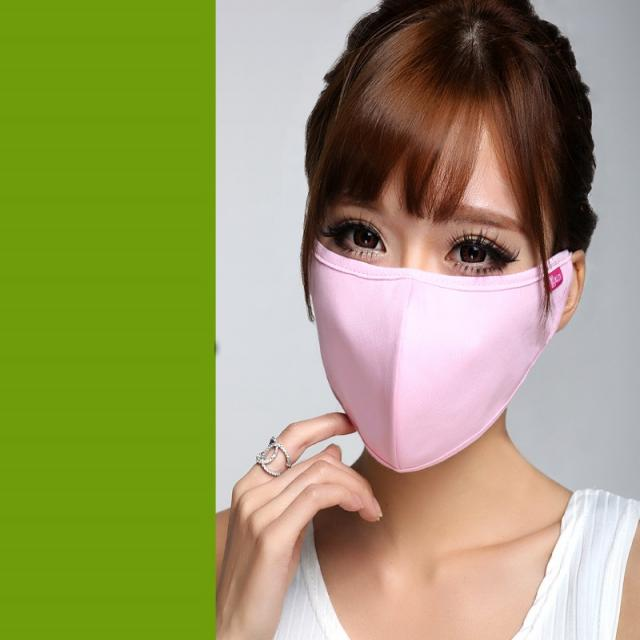mask: (314, 103, 544, 447)
